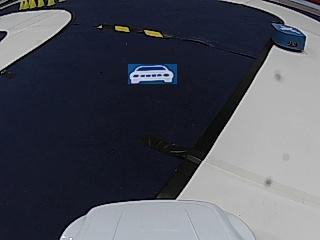prop: (272, 23, 305, 53)
